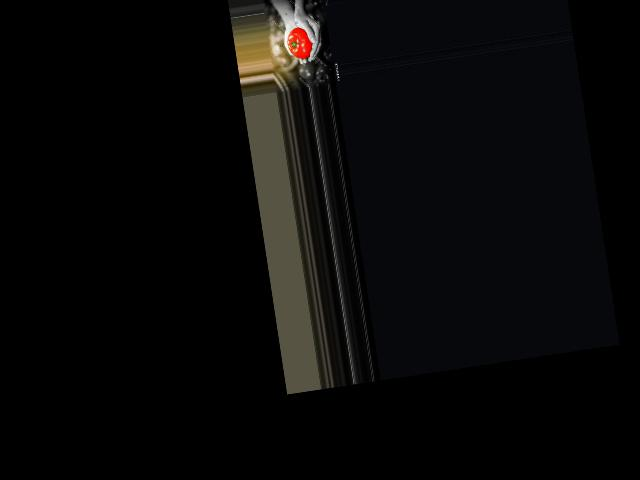tomato: (285, 25, 314, 60)
